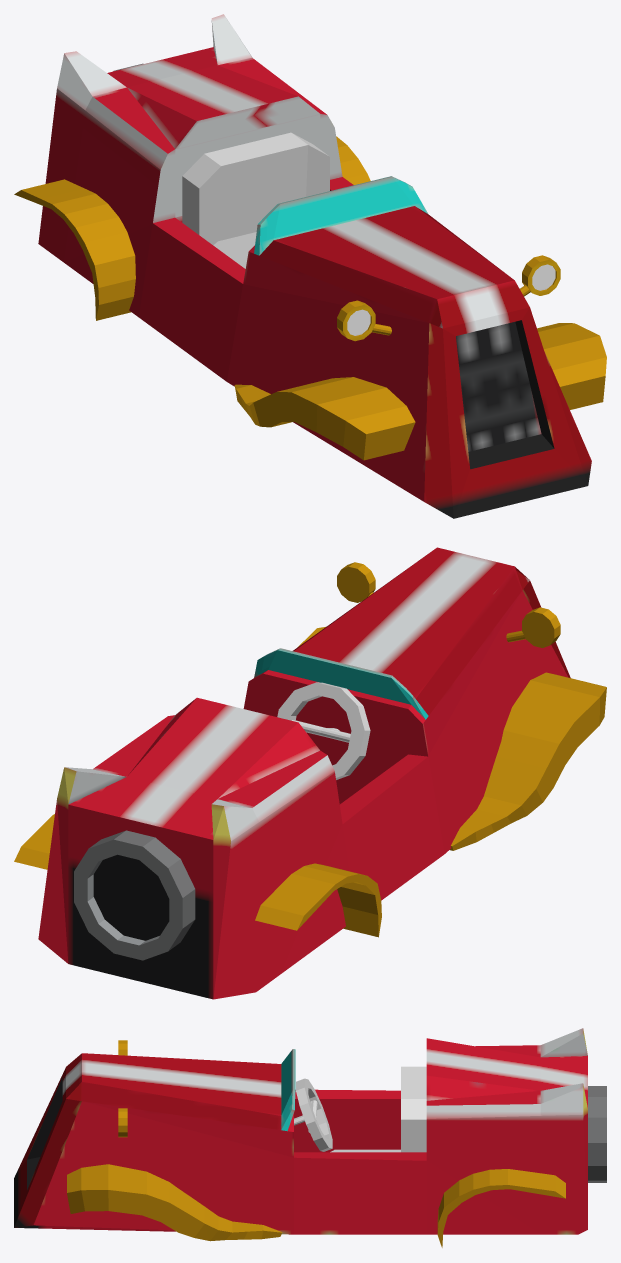
The model's file is car 1.fbx.
3 renders of one model, top to bottom at view 1: azimuth 30°, elevation 25°; view 2: azimuth 150°, elevation 25°; view 3: azimuth 270°, elevation 25°, orthographic. The views are drawn at different scales.
Visible parts, largest first — view 1: cuboid_1, cylinder_1, cuboid; view 2: cuboid_1, cylinder_1, cylinder, cylinder_2, cylinder_6; view 3: cuboid_1, cylinder_1, cuboid, cylinder, cylinder_6, cylinder_2.
Boxes of the visible parts, <box> form: cuboid_1: <box>38,14,591,518</box>; cylinder_1: <box>14,136,606,460</box>; cuboid: <box>182,132,329,268</box>; cuboid_1: <box>38,547,570,999</box>; cylinder_1: <box>14,562,606,937</box>; cylinder: <box>74,830,195,960</box>; cylinder_2: <box>279,683,370,779</box>; cylinder_6: <box>277,682,362,776</box>; cuboid_1: <box>14,1028,587,1234</box>; cylinder_1: <box>67,1040,565,1247</box>; cuboid: <box>330,1066,426,1152</box>; cylinder: <box>588,1086,606,1182</box>; cylinder_6: <box>296,1079,332,1151</box>; cylinder_2: <box>296,1078,332,1146</box>.
Bounding box in the file's own units: 81.25 × 53.13 × 195.
3 materials, 3 textured.
